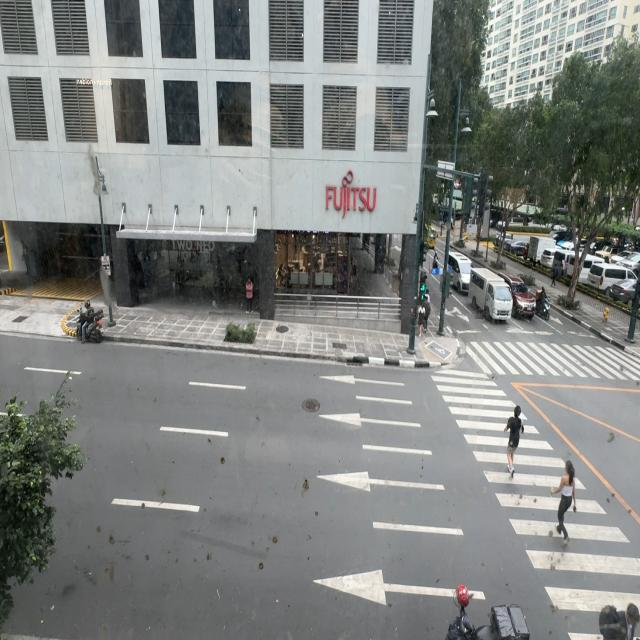crossing: (596, 588, 640, 640), (551, 458, 576, 548), (504, 407, 523, 479)
pedestrain: (416, 292, 429, 337), (246, 276, 253, 314), (552, 261, 559, 286), (432, 251, 439, 272), (560, 260, 566, 279)
